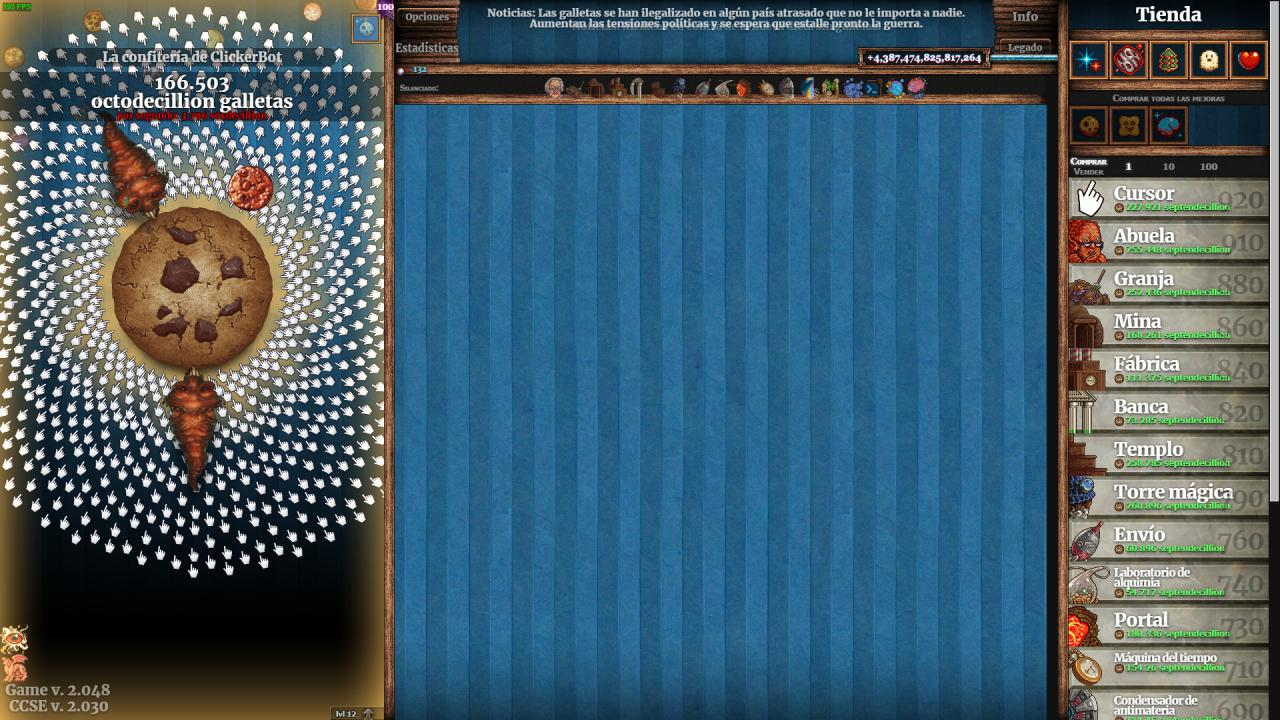RedCookie: (227, 166, 275, 212)
